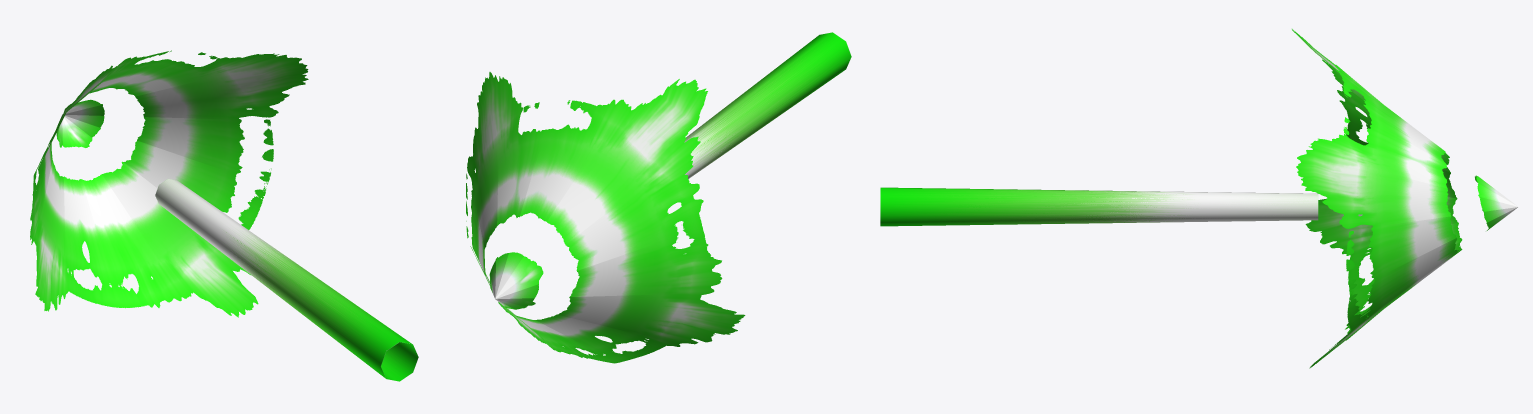
File: muzzle3.FBX
3 renders of one model, left to right at view 1: azimuth 30°, elevation 25°; view 2: azimuth 150°, elevation 25°; view 3: azimuth 270°, elevation 25°, orthographic. The views are drawn at different scales.
Parts seen in each view (by area): view 1: Cone003; view 2: Cone003; view 3: Cone003.
Boxes of the visible parts, x1,y1,x2,y2 form: Cone003: [30, 50, 418, 381]; Cone003: [466, 32, 851, 363]; Cone003: [880, 29, 1517, 368].
Size of the model in its own units: 0.154 by 0.154 by 0.2589.
